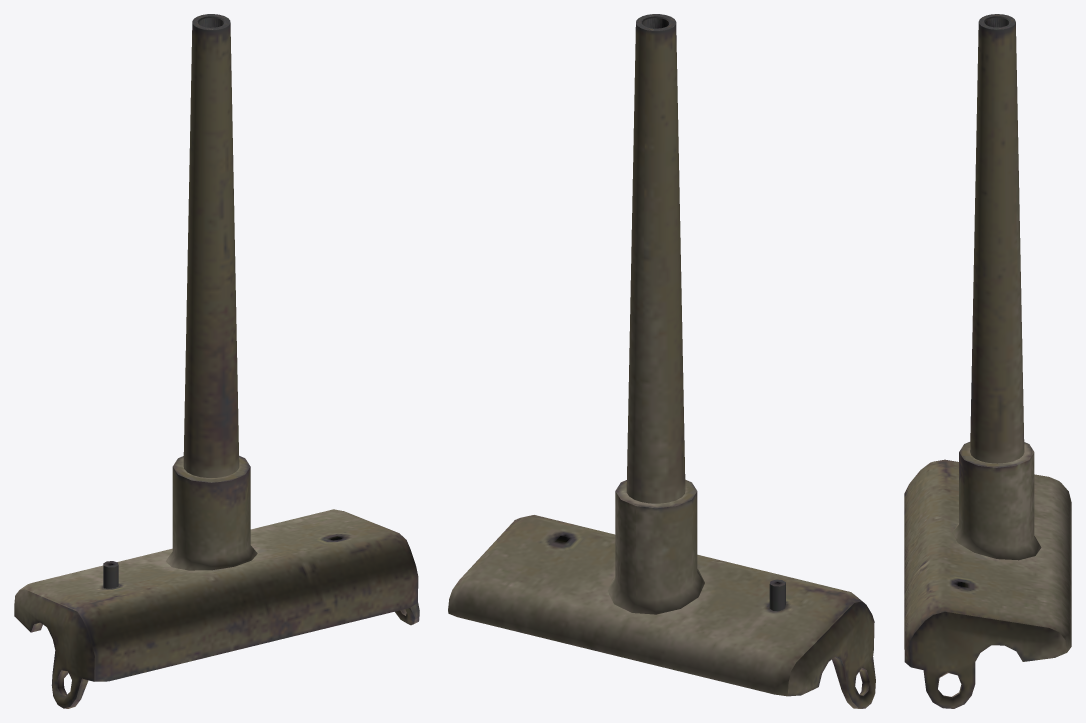
File: Gun_05.glb
3 renders of one model, left to right at view 1: azimuth 30°, elevation 25°; view 2: azimuth 150°, elevation 25°; view 3: azimuth 270°, elevation 25°, orthographic. The views are drawn at different scales.
Parts seen in each view (by area): view 1: set_0_group_0; view 2: set_0_group_0; view 3: set_0_group_0.
Boxes of the visible parts, box(x1,y1,x2,y2) form: set_0_group_0: box(14, 14, 419, 708); set_0_group_0: box(448, 14, 875, 708); set_0_group_0: box(904, 14, 1071, 708).
Bounding box in the file's own units: 1.23 × 2.06 × 0.5169.
1 material, 1 textured.
